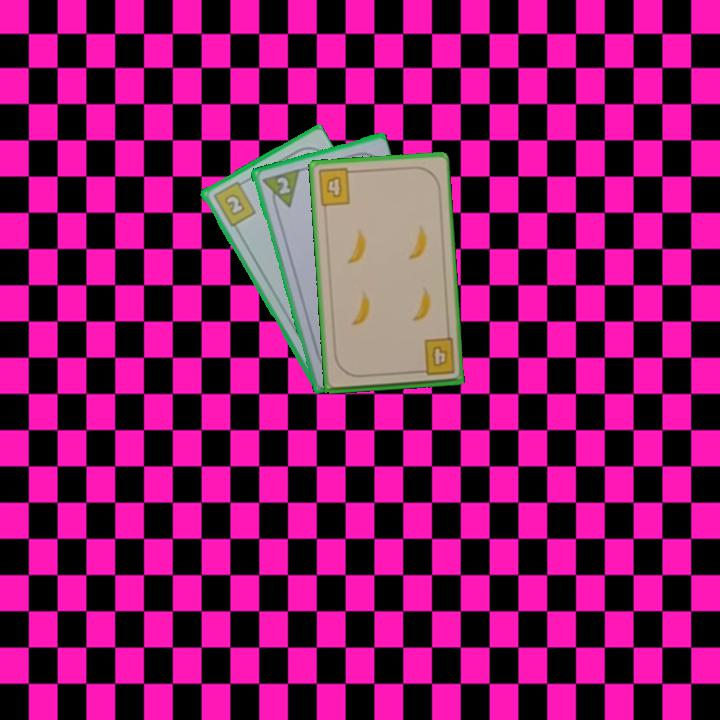2b: (209, 177, 258, 229)
2p: (272, 173, 293, 197)
4b: (314, 165, 358, 209), (413, 335, 458, 378)
